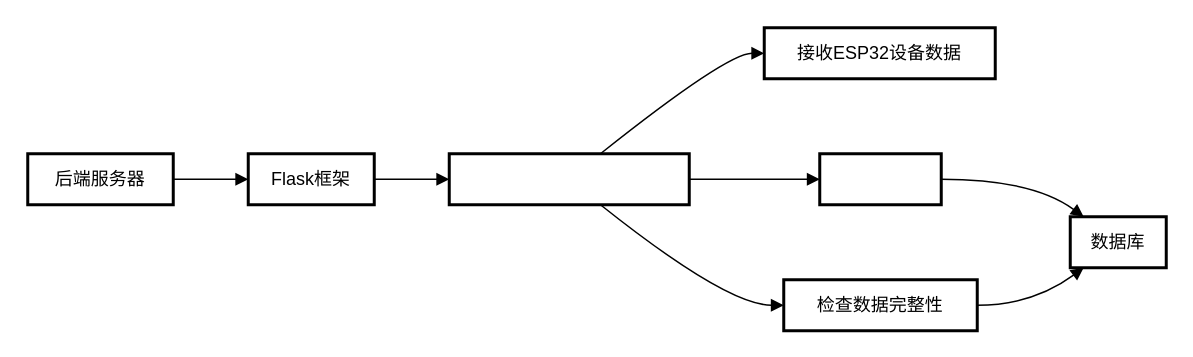
The diagram is 1193 pixels wide and 357 high, and some of its shapes have lost their labels. Each missing label, with the centre of its shape:
"处理数据请求和响应" belongs at point (568, 179).
"存储数据" belongs at point (880, 179).
